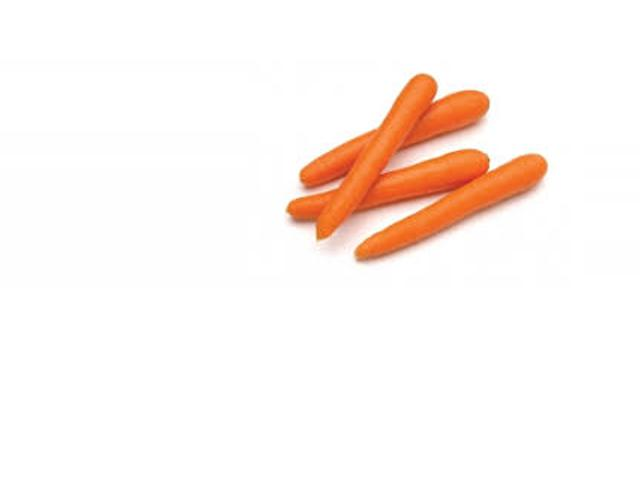carrot: (298, 80, 500, 182)
